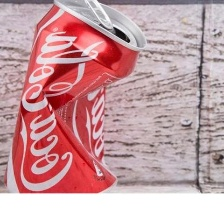can: (2, 0, 151, 195)
